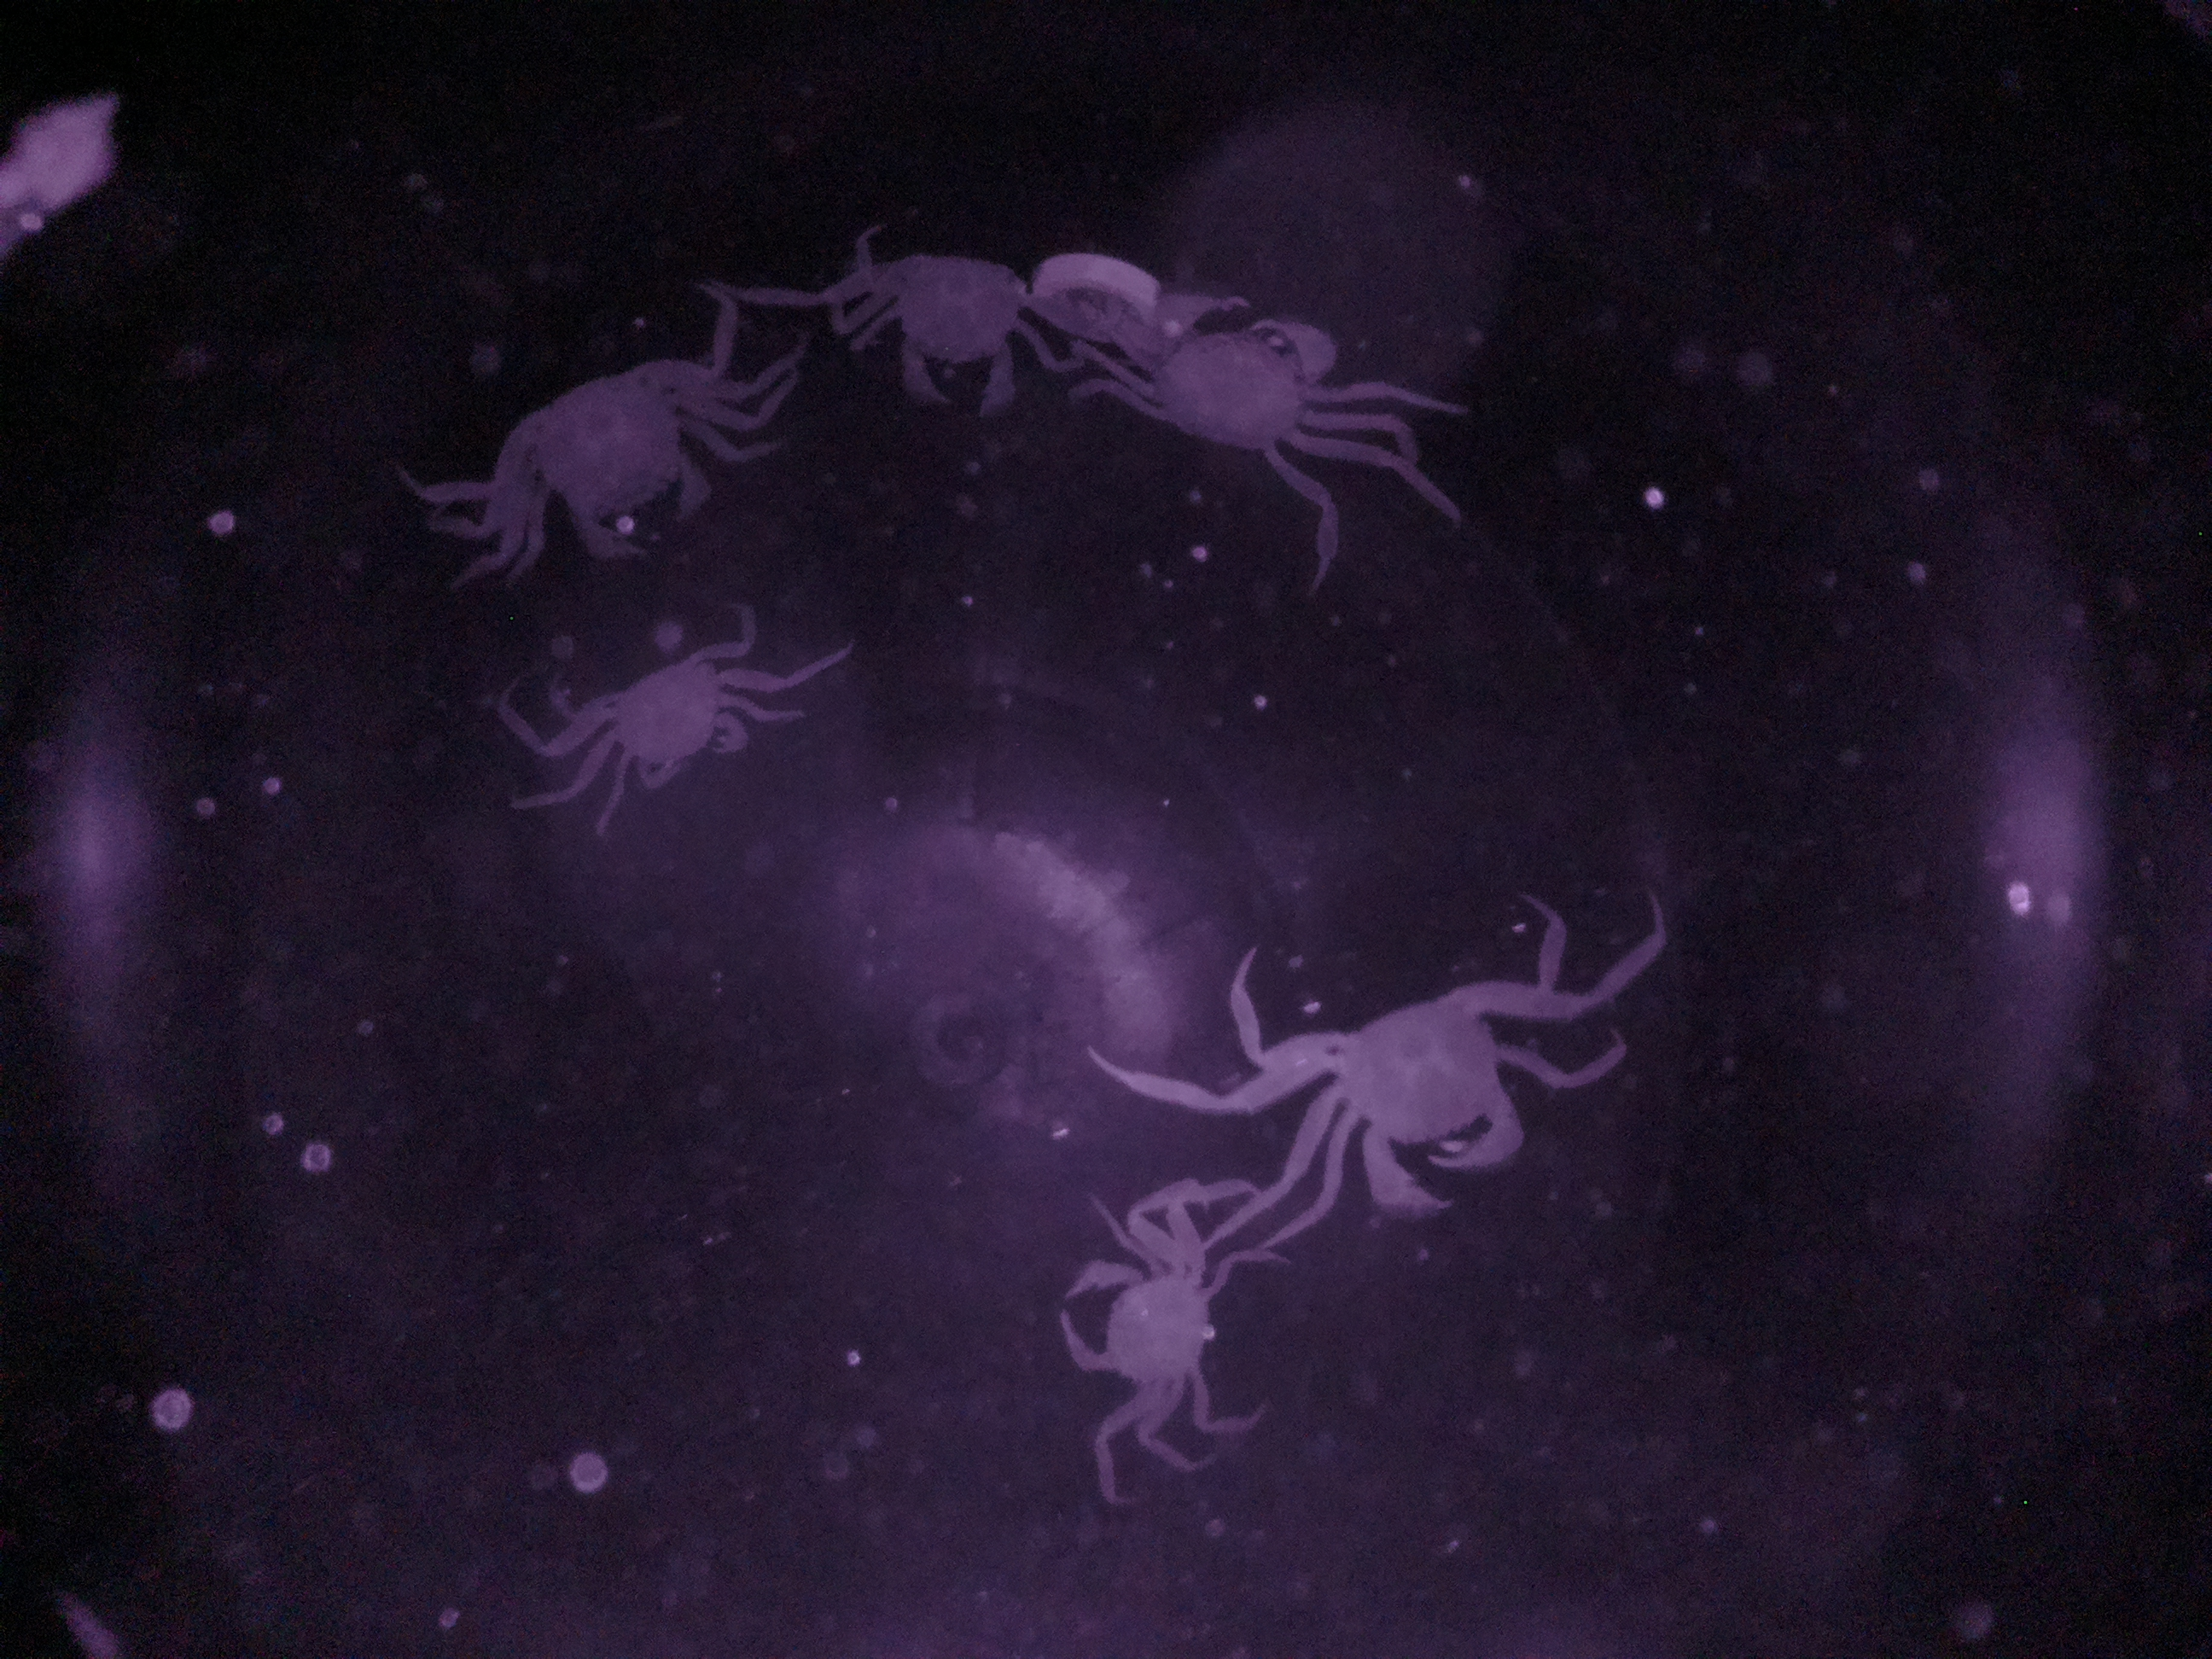Crab: (1268, 958, 1545, 1216), (465, 352, 761, 573), (1111, 270, 1371, 483), (1036, 1222, 1233, 1427), (561, 629, 772, 814), (859, 237, 1038, 432)
